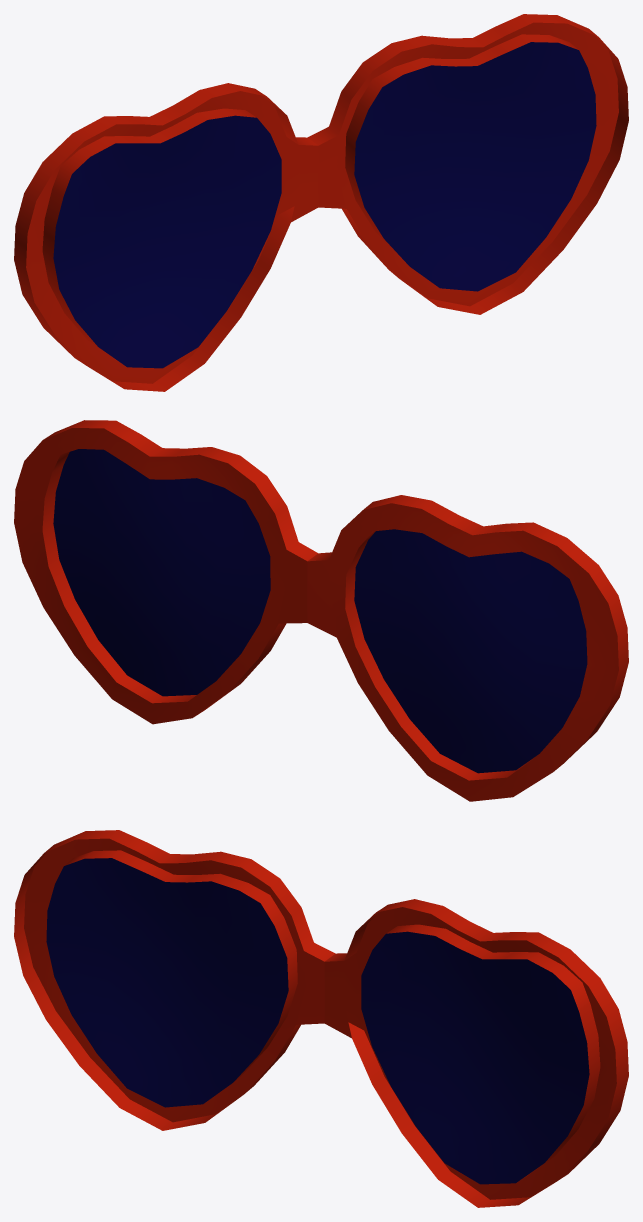
The model's file is gafas.fbx.
3 views of the same model, one above another, from view 1: azimuth 30°, elevation 25°; view 2: azimuth 150°, elevation 25°; view 3: azimuth 330°, elevation 25° (orthographic).
Visible parts, largest first — view 1: sunglasses; view 2: sunglasses; view 3: sunglasses.
Part boxes in pixels (x1,y1,x2,y2): sunglasses: (14,14,628,391); sunglasses: (14,420,628,801); sunglasses: (14,830,628,1207).
Bounding box in the file's own units: 96.37 × 42.9 × 5.61.
